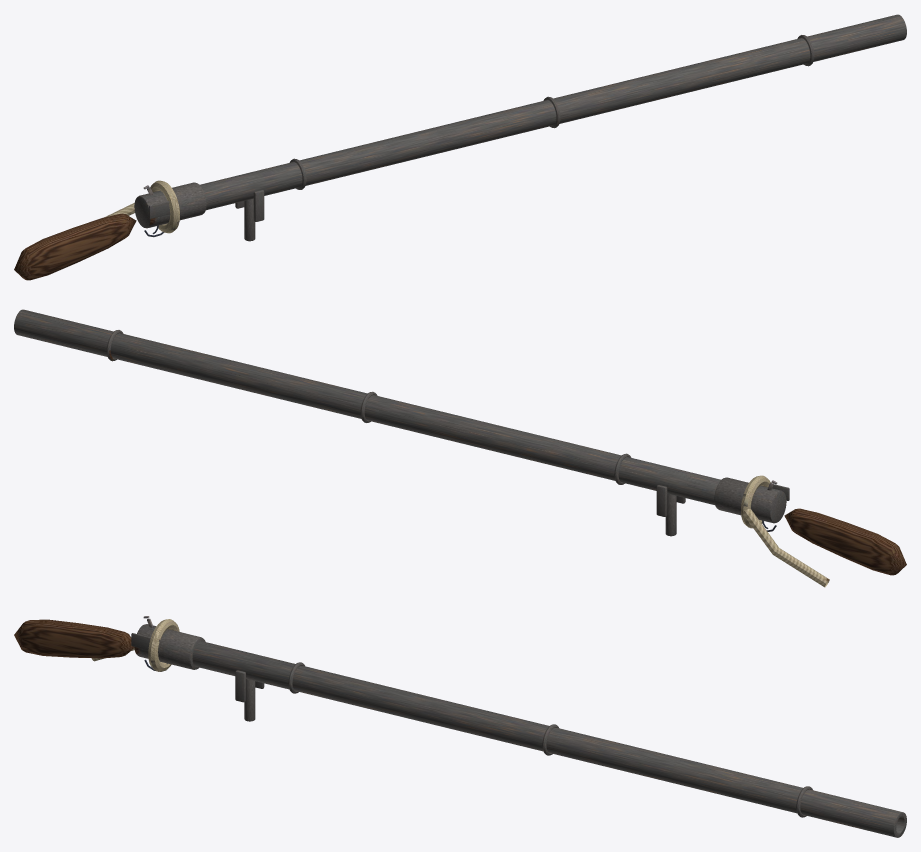
Rendered from puntgun.glb.
3 views of the same model, one above another, from view 1: azimuth 30°, elevation 25°; view 2: azimuth 150°, elevation 25°; view 3: azimuth 330°, elevation 25° (orthographic).
Parts seen in each view (by area): view 1: barrel, stock, breech, breeching; view 2: barrel, stock, breech, breech_rope; view 3: barrel, stock, breech, breeching.
Boxes of the visible parts, x1,y1,x2,y2 form: barrel: (200, 14, 906, 210); stock: (14, 213, 136, 280); breech: (134, 182, 206, 228); breeching: (150, 180, 179, 233); barrel: (14, 309, 720, 504); stock: (784, 508, 906, 575); breech: (714, 477, 786, 523); breech_rope: (742, 508, 829, 587); barrel: (192, 641, 906, 837); stock: (14, 619, 134, 658); breech: (134, 624, 205, 669); breeching: (148, 619, 179, 671).
Size of the model in its own units: 2.79 by 0.236 by 0.2066.
1 material, 1 textured.
